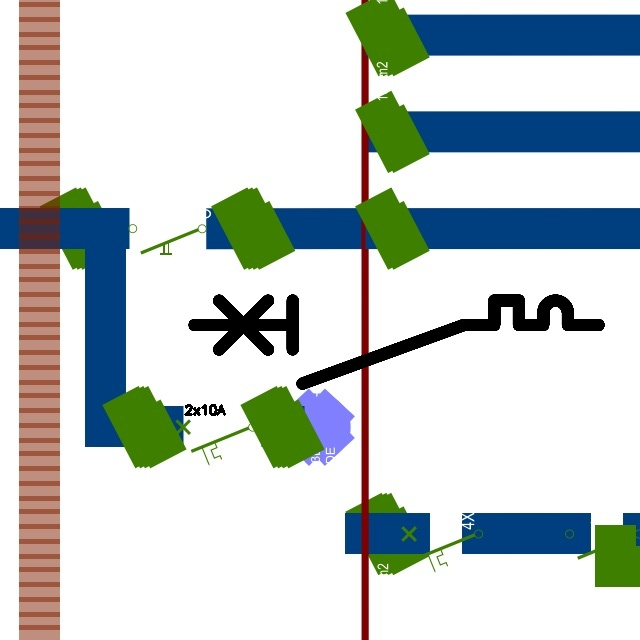interruptor_termomagnetico: (184, 290, 609, 394)
